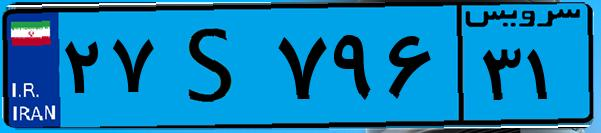1: (525, 38, 570, 115)
2: (57, 26, 110, 100)
3: (475, 38, 525, 113)
6: (385, 28, 445, 110)
7: (270, 28, 330, 110), (110, 28, 158, 98)
9: (330, 28, 385, 110)
S: (158, 12, 270, 120)
